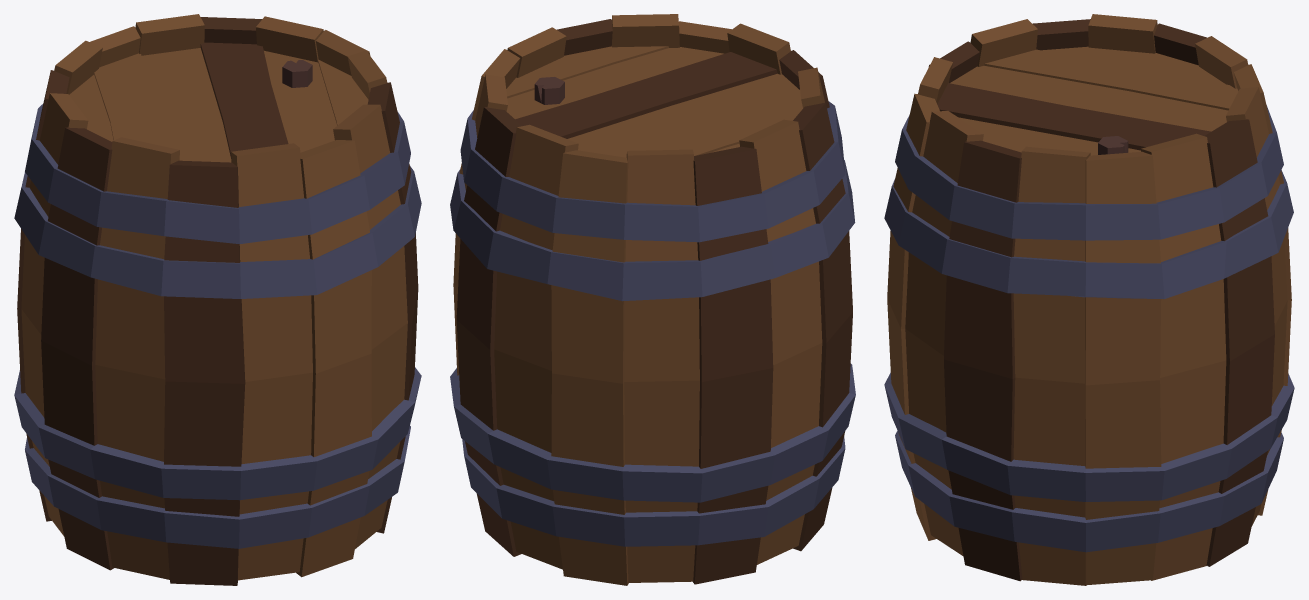
File: Wooden_Barrel01.fbx
3 views of the same model, side by side, from view 1: azimuth 30°, elevation 25°; view 2: azimuth 150°, elevation 25°; view 3: azimuth 270°, elevation 25° (orthographic).
Visible parts, largest first — view 1: SM_Wooden_Barrel; view 2: SM_Wooden_Barrel; view 3: SM_Wooden_Barrel.
Boxes of the visible parts, left/top/right/bottom form: SM_Wooden_Barrel: left=14, top=14, right=421, bottom=585; SM_Wooden_Barrel: left=450, top=14, right=855, bottom=585; SM_Wooden_Barrel: left=884, top=14, right=1294, bottom=585.
Size of the model in its own units: 1.19 by 1.03 by 1.03.
